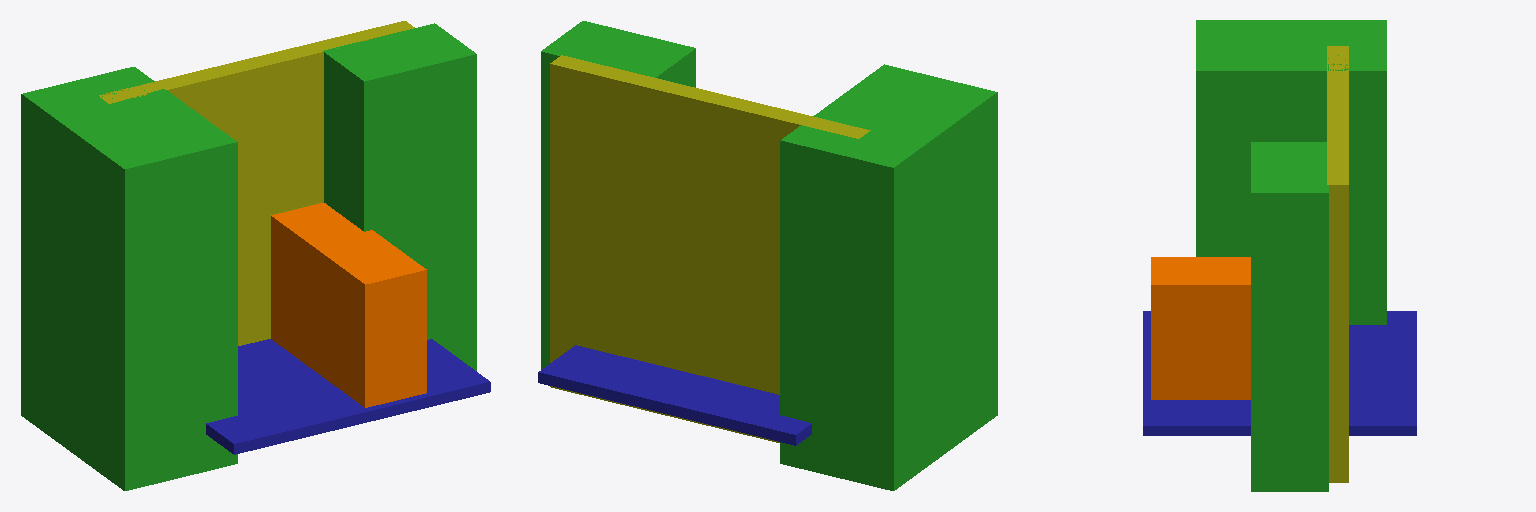
The robot description file, URDF, robot "workspace_feeding_demo":
<?xml version="1.0" ?>
<robot name="workspace_feeding_demo">

  <!--
  The origin is the front left upper corner of the tabletop.
  -->

  <material name="yellow">
    <color rgba="0.7 0.7 0.1 1"/>
  </material>
  <material name="green">
    <color rgba="0.2 0.7 0.2 .5"/>
  </material>
  <material name="blue">
    <color rgba="0.2 0.2 0.7 1"/>
  </material>
  <material name="orange">
    <color rgba="1 0.5 0 .2"/>
  </material>

  <link name="workspace">

    <!-- Wall -->
    <collision>
      <origin xyz="0.88 0.905 1"/>
      <geometry>
        <!--without safety margin: box size="3 0.1 3""/-->
        <box size="3 0.4 3"/>
      </geometry>
    </collision>
    <visual>
      <origin xyz="0.88 0.905 1"/>
      <geometry>
        <box size="3 0.2 3"/>
      </geometry>
      <material name="yellow"/>
    </visual>

    <!-- Stuff on left side -->
    <collision>
      <origin xyz="-0.61 0.4825 1"/>
      <geometry>
        <!--without safety margin: box size="1 0.745 3"/-->
        <box size="1.3 1.745 3"/>
      </geometry>
    </collision>
    <visual>
      <origin xyz="-0.61 0.4825 1"/>
      <geometry>
        <box size="1.1 1.745 3"/>
      </geometry>
      <material name="green"/>
    </visual>

    <!-- Shelf on right side -->
    <collision>
      <origin xyz="2.02 0.475 1"/>
      <geometry>
        <!--without safety margin: box size="1 0.61 3"/-->
        <box size="1 0.71 3"/>
      </geometry>
    </collision>
    <visual>
      <origin xyz="2.02 0.475 1"/>
      <geometry>
        <box size="1.1 0.71 3"/>
      </geometry>
      <material name="green"/>
    </visual>

    <!-- "Floor" We don't expect the robot to need to go below 0 in z direction -->
    <collision>
      <origin xyz="0.88 0.38 -0.1"/>
      <geometry>
        <box size="2.5 2.5 0.1"/>
      </geometry>
    </collision>
    <visual>
      <origin xyz="0.88 0.38 -0.1"/>
      <geometry>
        <box size="2.5 2.5 0.1"/>
      </geometry>
      <material name="blue"/>
    </visual>

    <!-- Computer + Operator -->
    <collision>
      <origin xyz="1.25 0 0.5"/>
      <geometry>
        <!--without safety margin: box size="1 0.61 3"/-->
        <box size="0.6 1.6 1.2"/>
      </geometry>
    </collision>
    <visual>
      <origin xyz="1.25 0 0.5"/>
      <geometry>
        <box size="0.6 1.6 1.2"/>
      </geometry>
      <material name="orange"/>
    </visual>
  </link>
</robot>

--- Render facts (derived) ---
Views: 3 orthographic renders of the robot side by side, from view 1: azimuth 30°, elevation 25°; view 2: azimuth 150°, elevation 25°; view 3: azimuth 270°, elevation 25°.
Model workspace_feeding_demo with 1 links and 0 joints (none), rooted at workspace, posed every joint at zero.
Links seen in each view (by area): view 1: workspace; view 2: workspace; view 3: workspace.
Link boxes in pixels (x1,y1,x2,y2): workspace: (21, 21, 490, 490); workspace: (538, 21, 997, 490); workspace: (1143, 20, 1416, 491).
Size in the robot's own frame: 3.73 by 2.5 by 3 metres.
Geometry: primitives only (box / cylinder / sphere), no mesh files.